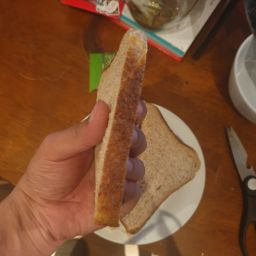Breads: (83, 25, 205, 247), (104, 21, 155, 215)
